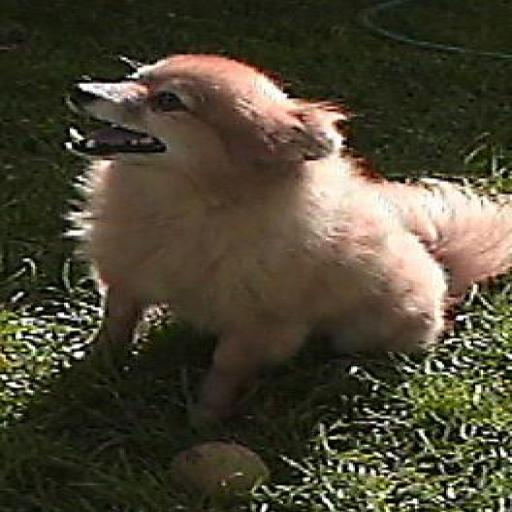dog_face: (67, 58, 327, 164)
